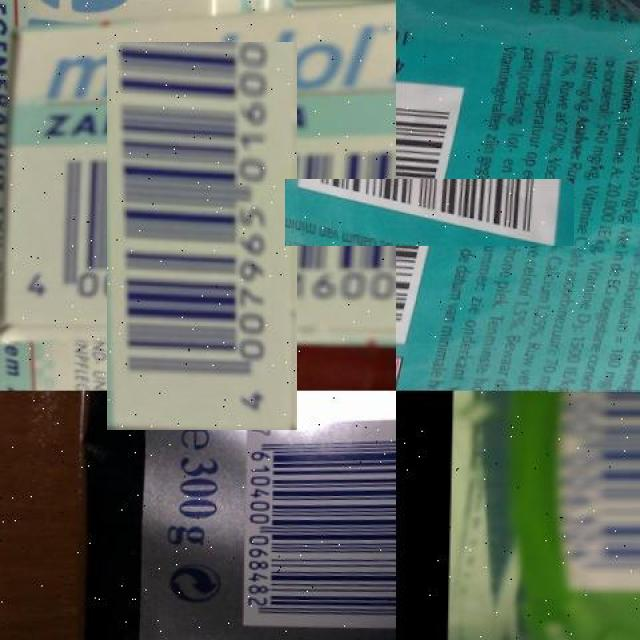Barcode: (57, 91, 347, 380), (241, 425, 396, 640), (341, 123, 519, 302), (548, 391, 640, 598)
